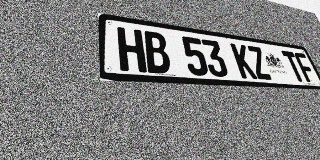3: (201, 39, 229, 77)
5: (181, 36, 210, 76)
B: (142, 30, 172, 74)
F: (293, 52, 318, 83)
H: (117, 27, 147, 73)
K: (230, 43, 258, 79)
T: (281, 50, 307, 82)
Z: (246, 45, 273, 80)
